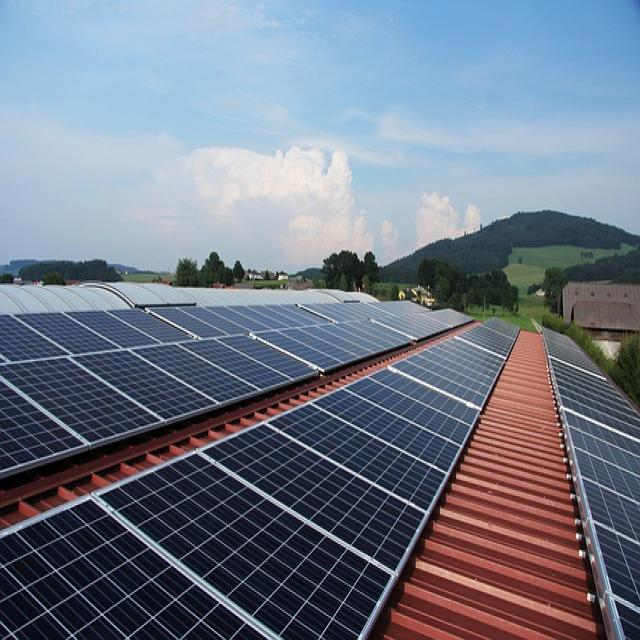clean-solar-panel: (1, 320, 518, 637), (1, 302, 470, 478), (543, 330, 640, 639)
